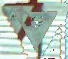Give way: (1, 0, 57, 54)
